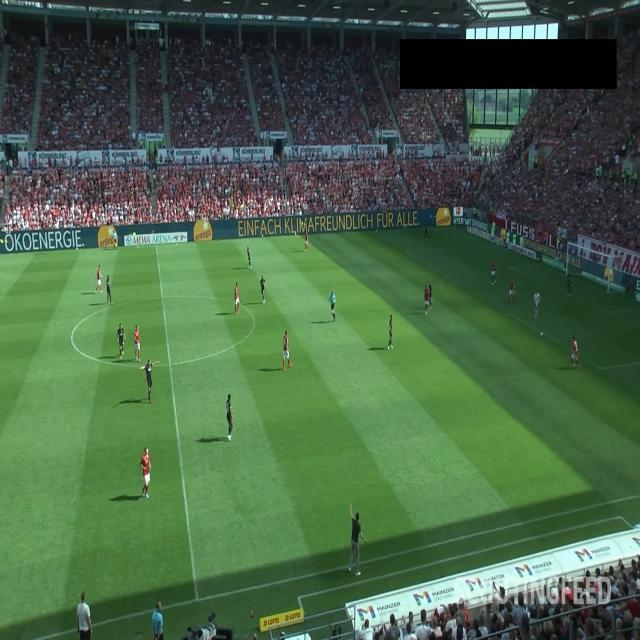ball: (540, 332, 544, 337)
